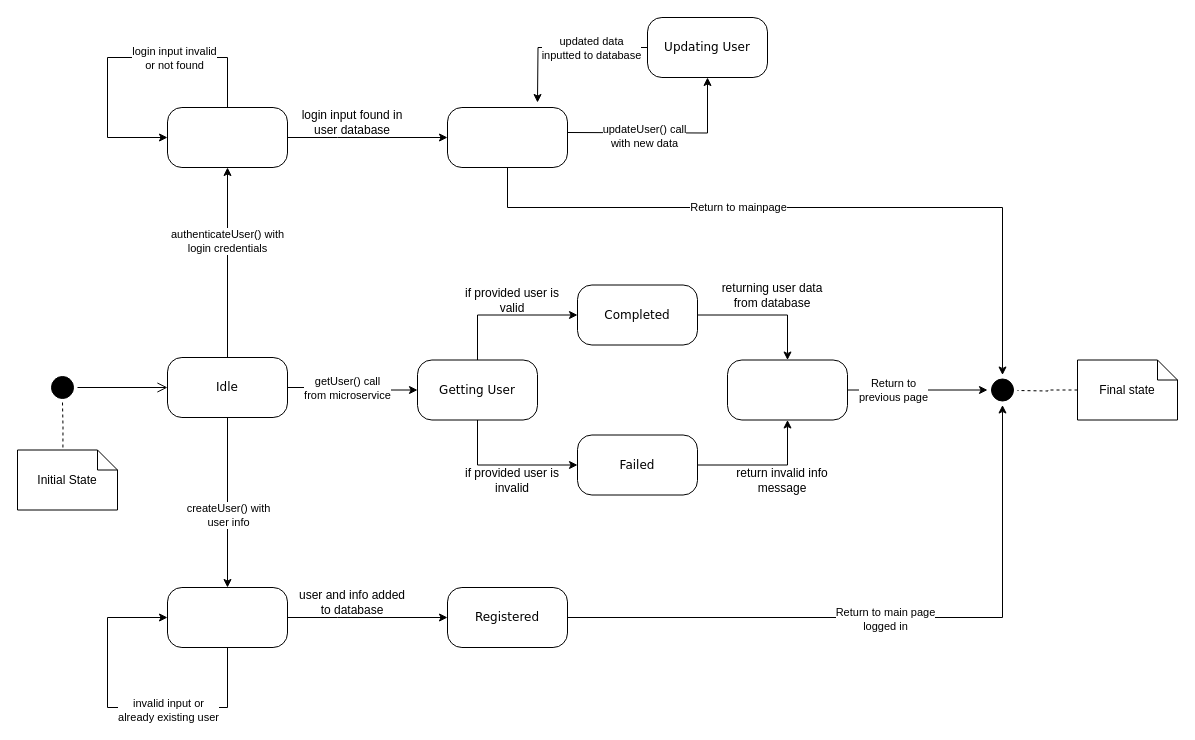
The diagram is 1195 pixels wide and 740 high, and some of its shapes have lost their labels. The centre of each missing label's shape, as x and y in pixels:
"Logged in" belongs at pixel 507 137.
"Logging In" belongs at pixel 227 137.
"Register Account" belongs at pixel 227 617.
"Return Status Information" belongs at pixel 787 389.
